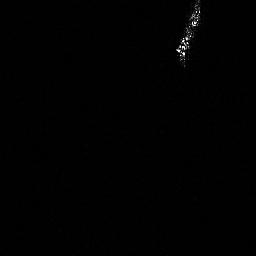ship: (174, 1, 202, 66)
